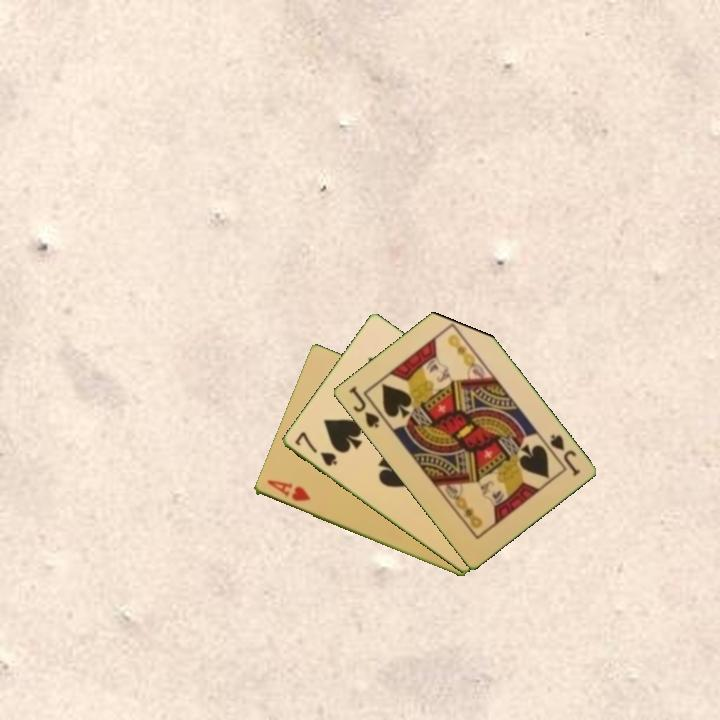7s: (291, 428, 340, 469)
Ah: (263, 476, 313, 504)
Js: (345, 382, 382, 431), (546, 431, 582, 479)
